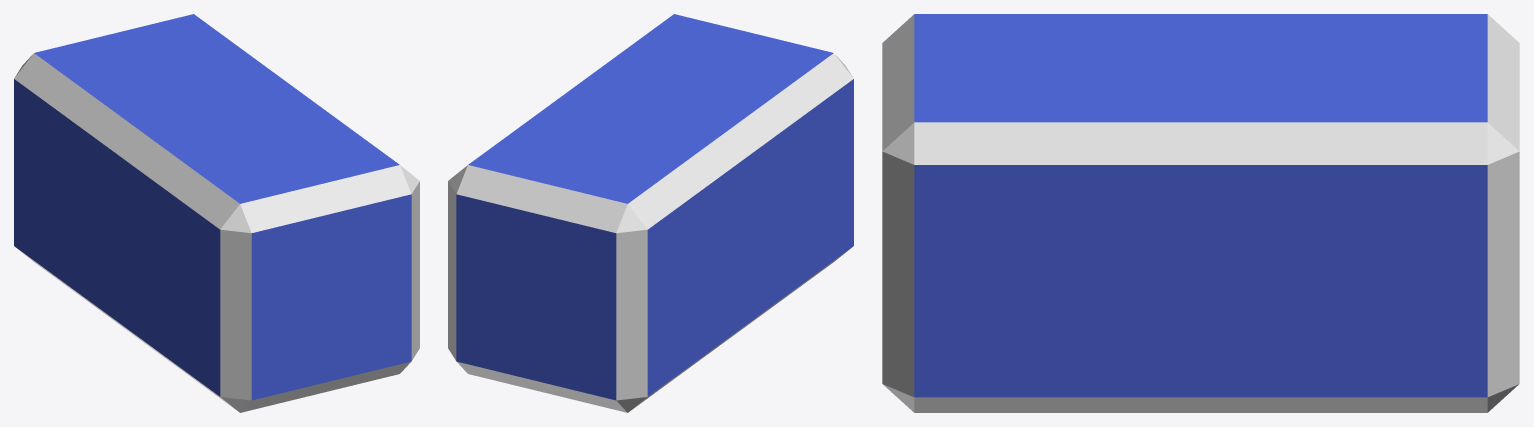
File: Zid 1x2.fbx
The picture shows the model from 3 angles, left to right: view 1: azimuth 30°, elevation 25°; view 2: azimuth 150°, elevation 25°; view 3: azimuth 270°, elevation 25°; orthographic projection. The views are drawn at different scales.
Visible parts, largest first — view 1: Cube.010; view 2: Cube.010; view 3: Cube.010.
Part boxes in pixels (x1,y1,x2,y2): Cube.010: [14, 14, 419, 412]; Cube.010: [448, 14, 853, 412]; Cube.010: [882, 14, 1519, 412].
Bounding box in the file's own units: 1 × 1 × 1.99.
